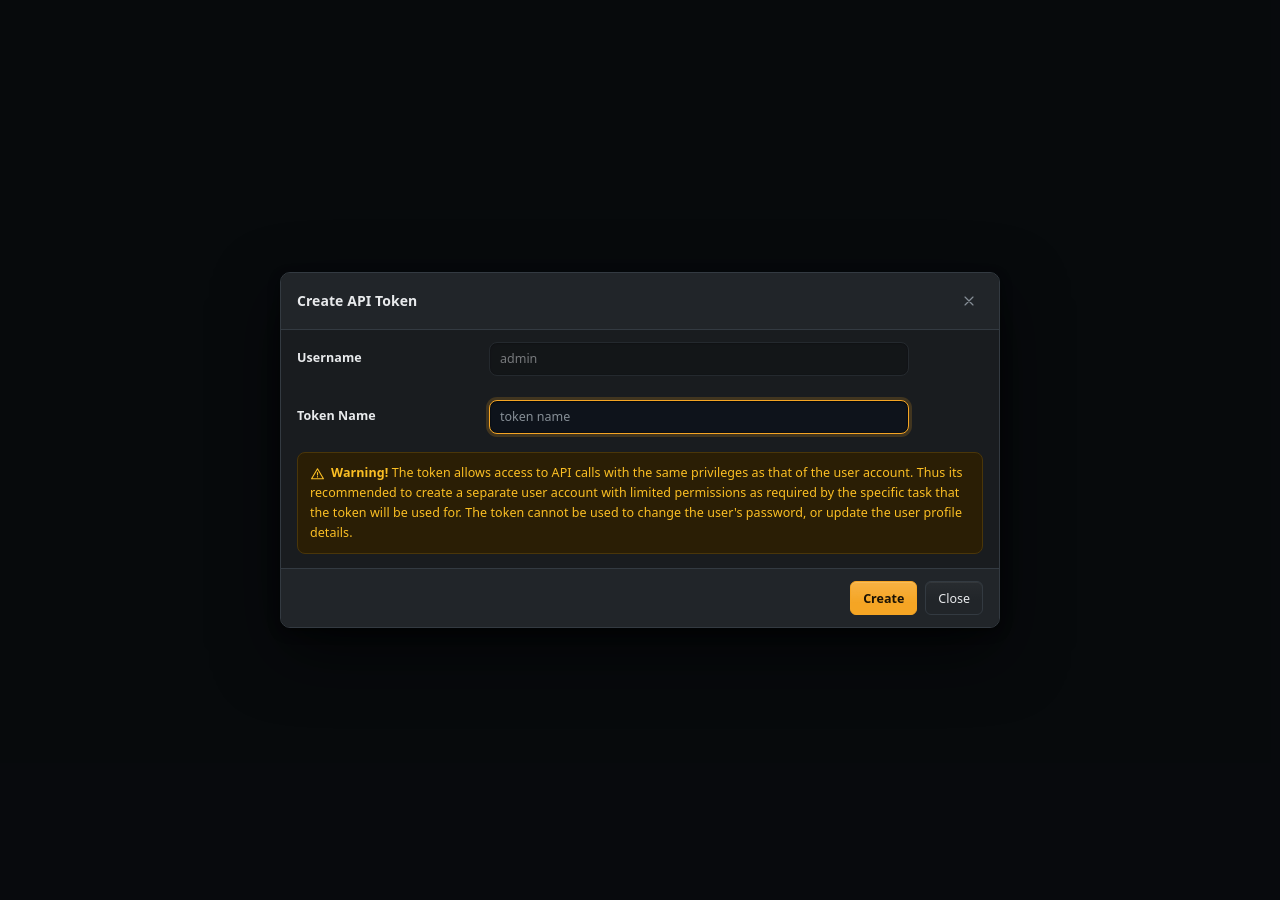
Create API Token › it requires the name with the literal text
Click the button "Create".
click(884, 598)  # box [850,581,917,615]
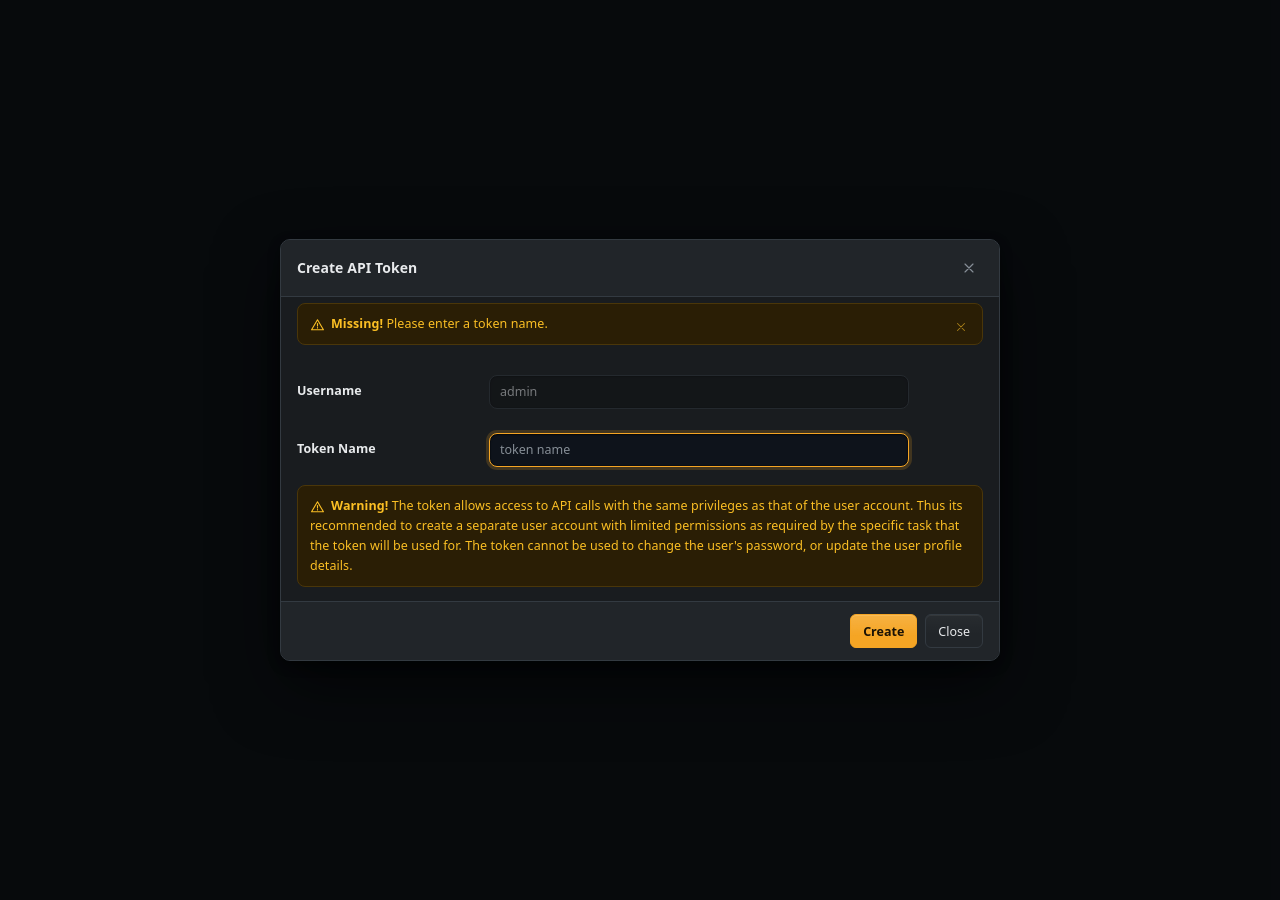
Check: the text "Please enter a token name." is shown, box [386,315,548,332]
